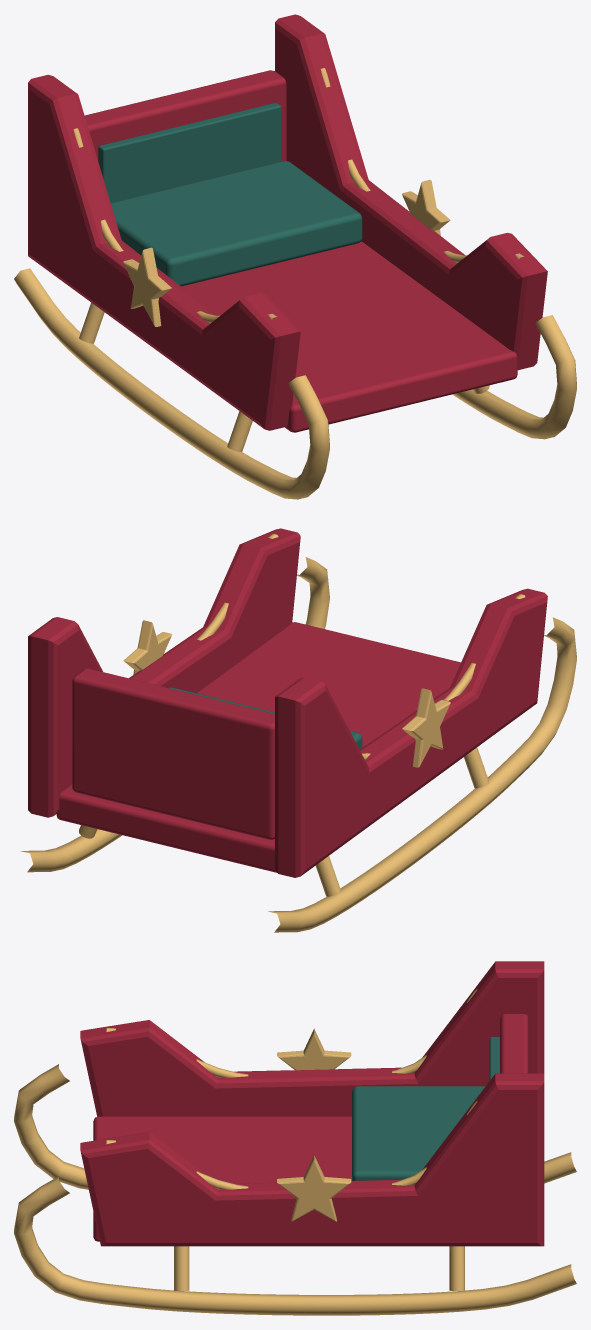
The model's file is treno.glb.
3 renders of one model, top to bottom at view 1: azimuth 30°, elevation 25°; view 2: azimuth 150°, elevation 25°; view 3: azimuth 270°, elevation 25°, orthographic. The views are drawn at different scales.
Parts seen in each view (by area): view 1: berry, pine, brass; view 2: berry, brass; view 3: berry, brass, pine.
Boxes of the visible parts, x1=… form: berry: x1=28, y1=14, x2=547, y2=432; pine: x1=98, y1=103, x2=362, y2=286; brass: x1=14, y1=68, x2=576, y2=499; berry: x1=28, y1=528, x2=547, y2=877; brass: x1=21, y1=534, x2=576, y2=932; berry: x1=80, y1=961, x2=544, y2=1246; brass: x1=14, y1=988, x2=576, y2=1315; pine: x1=352, y1=1036, x2=499, y2=1180.
Size of the model in its own units: 1.19 by 1 by 2.17.
